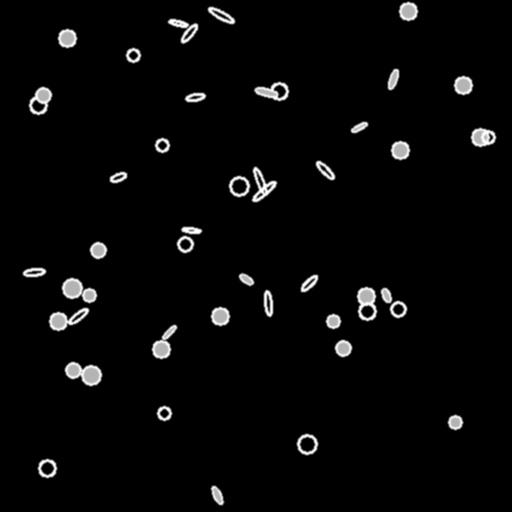pseudomonas: (251, 180, 277, 202), (207, 6, 235, 24), (252, 166, 268, 196), (67, 306, 89, 326), (179, 22, 199, 44), (299, 273, 319, 293), (315, 160, 335, 180), (254, 86, 278, 98), (210, 485, 224, 505), (387, 68, 399, 90), (238, 272, 254, 286), (350, 121, 368, 133), (109, 171, 127, 183), (264, 290, 272, 316), (162, 325, 176, 339), (380, 287, 392, 303), (186, 92, 204, 102), (181, 226, 201, 234), (24, 268, 44, 276), (169, 19, 187, 27)
synechocystis: (230, 177, 248, 195), (298, 435, 316, 453), (63, 279, 81, 297), (82, 366, 100, 384), (358, 288, 374, 304), (50, 313, 66, 329), (359, 303, 375, 319), (455, 77, 471, 93), (392, 142, 408, 158), (472, 129, 488, 145), (39, 460, 55, 476), (59, 30, 75, 46), (212, 308, 228, 324), (153, 341, 169, 357), (400, 3, 416, 19), (30, 97, 46, 113), (271, 83, 287, 99), (66, 363, 80, 377), (391, 302, 405, 316), (91, 243, 105, 257), (178, 237, 192, 251), (336, 341, 350, 355), (36, 88, 50, 102), (156, 139, 168, 151), (449, 416, 461, 428), (83, 289, 95, 301), (158, 407, 170, 419), (327, 315, 339, 327), (482, 131, 494, 143), (127, 49, 139, 61)
